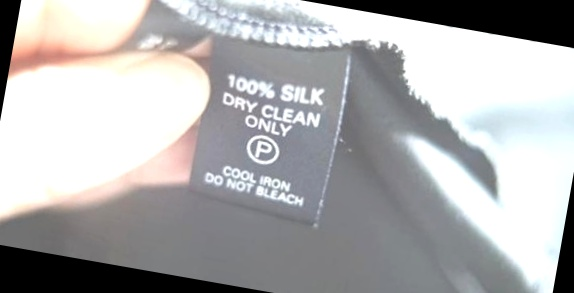dry_clean_any_solvent_except_trichloroethylene: (245, 131, 284, 167)
